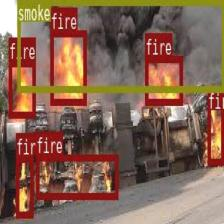fire: (36, 153, 118, 198), (50, 29, 86, 104), (145, 55, 182, 103), (8, 59, 34, 116), (206, 86, 224, 164), (16, 154, 32, 216)
smoke: (16, 0, 224, 90)
